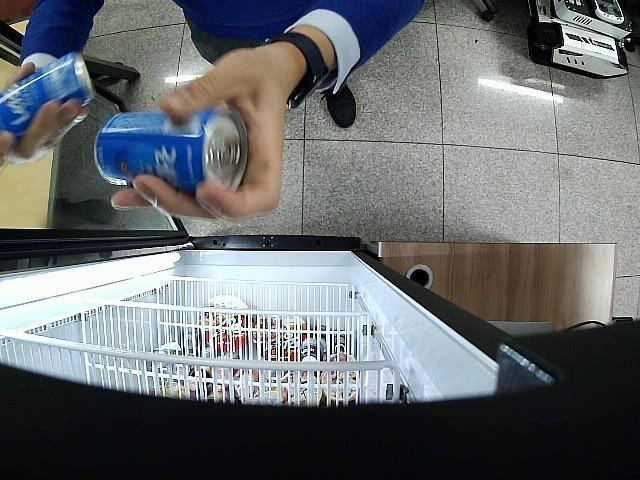15_letsbe: (92, 110, 248, 193), (0, 55, 93, 137)
